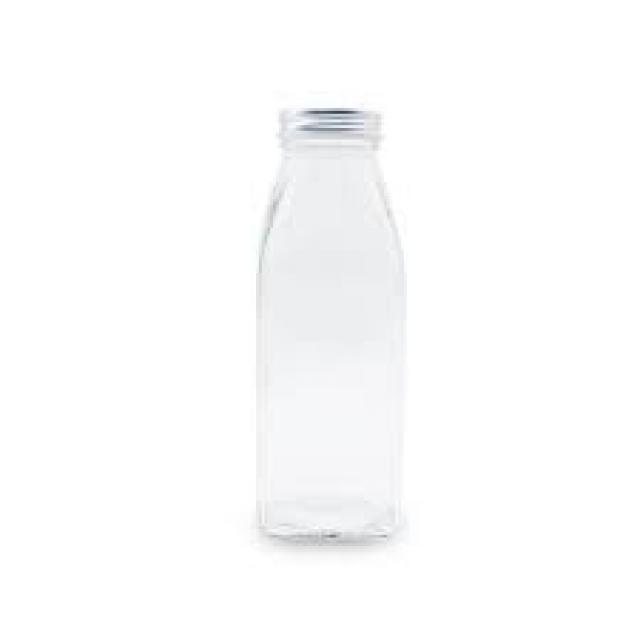Glass-Non-Biodegradable but Recyclable-: (252, 110, 403, 541)
